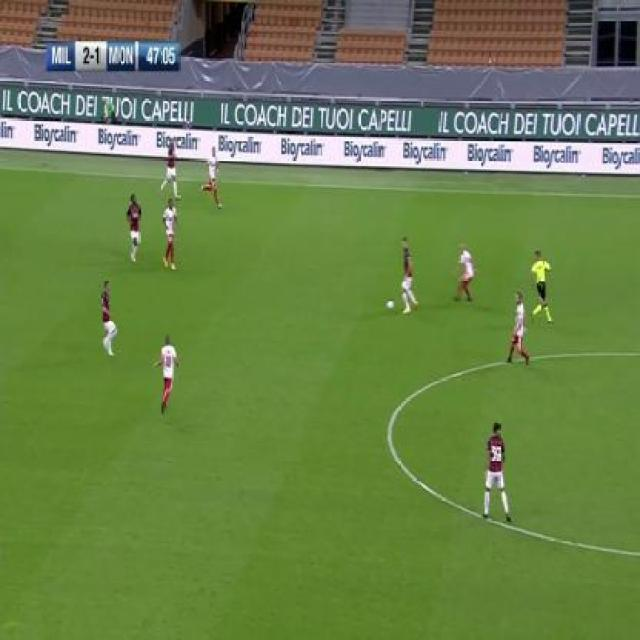ball: (387, 297, 396, 311)
player: (482, 419, 513, 524), (153, 333, 179, 418), (530, 248, 555, 327), (506, 291, 531, 367), (397, 237, 419, 314), (99, 278, 119, 360), (201, 144, 224, 213), (454, 242, 479, 304), (158, 135, 180, 200), (161, 196, 178, 272), (126, 193, 143, 266)
